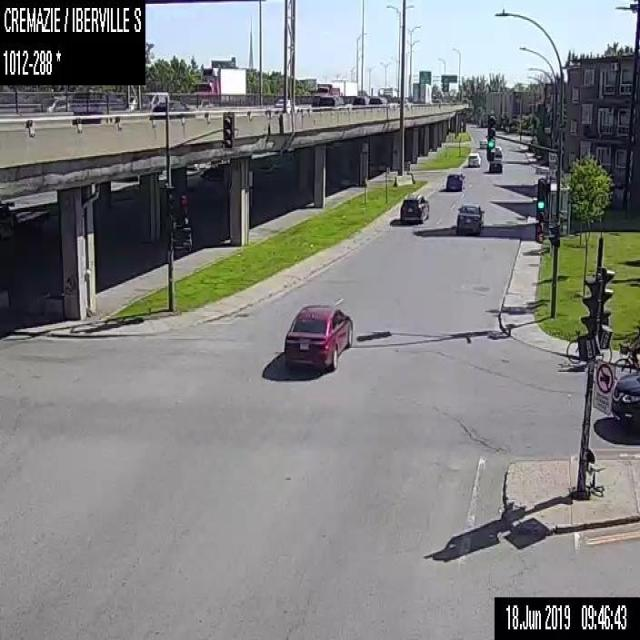cyclist: (564, 328, 610, 366), (613, 318, 639, 382)
vehicle: (282, 302, 354, 369), (193, 65, 245, 105), (611, 373, 639, 430), (398, 191, 429, 224), (72, 105, 120, 126), (316, 79, 356, 102), (454, 202, 482, 234), (149, 100, 194, 118), (35, 94, 69, 111), (142, 91, 170, 111), (412, 81, 432, 105), (318, 94, 344, 110), (445, 170, 464, 191), (275, 98, 300, 111), (311, 92, 328, 110), (368, 96, 387, 108), (488, 158, 502, 174), (466, 151, 480, 166), (352, 95, 368, 108), (396, 98, 408, 107), (494, 144, 502, 156), (478, 138, 486, 148), (432, 98, 441, 105)
